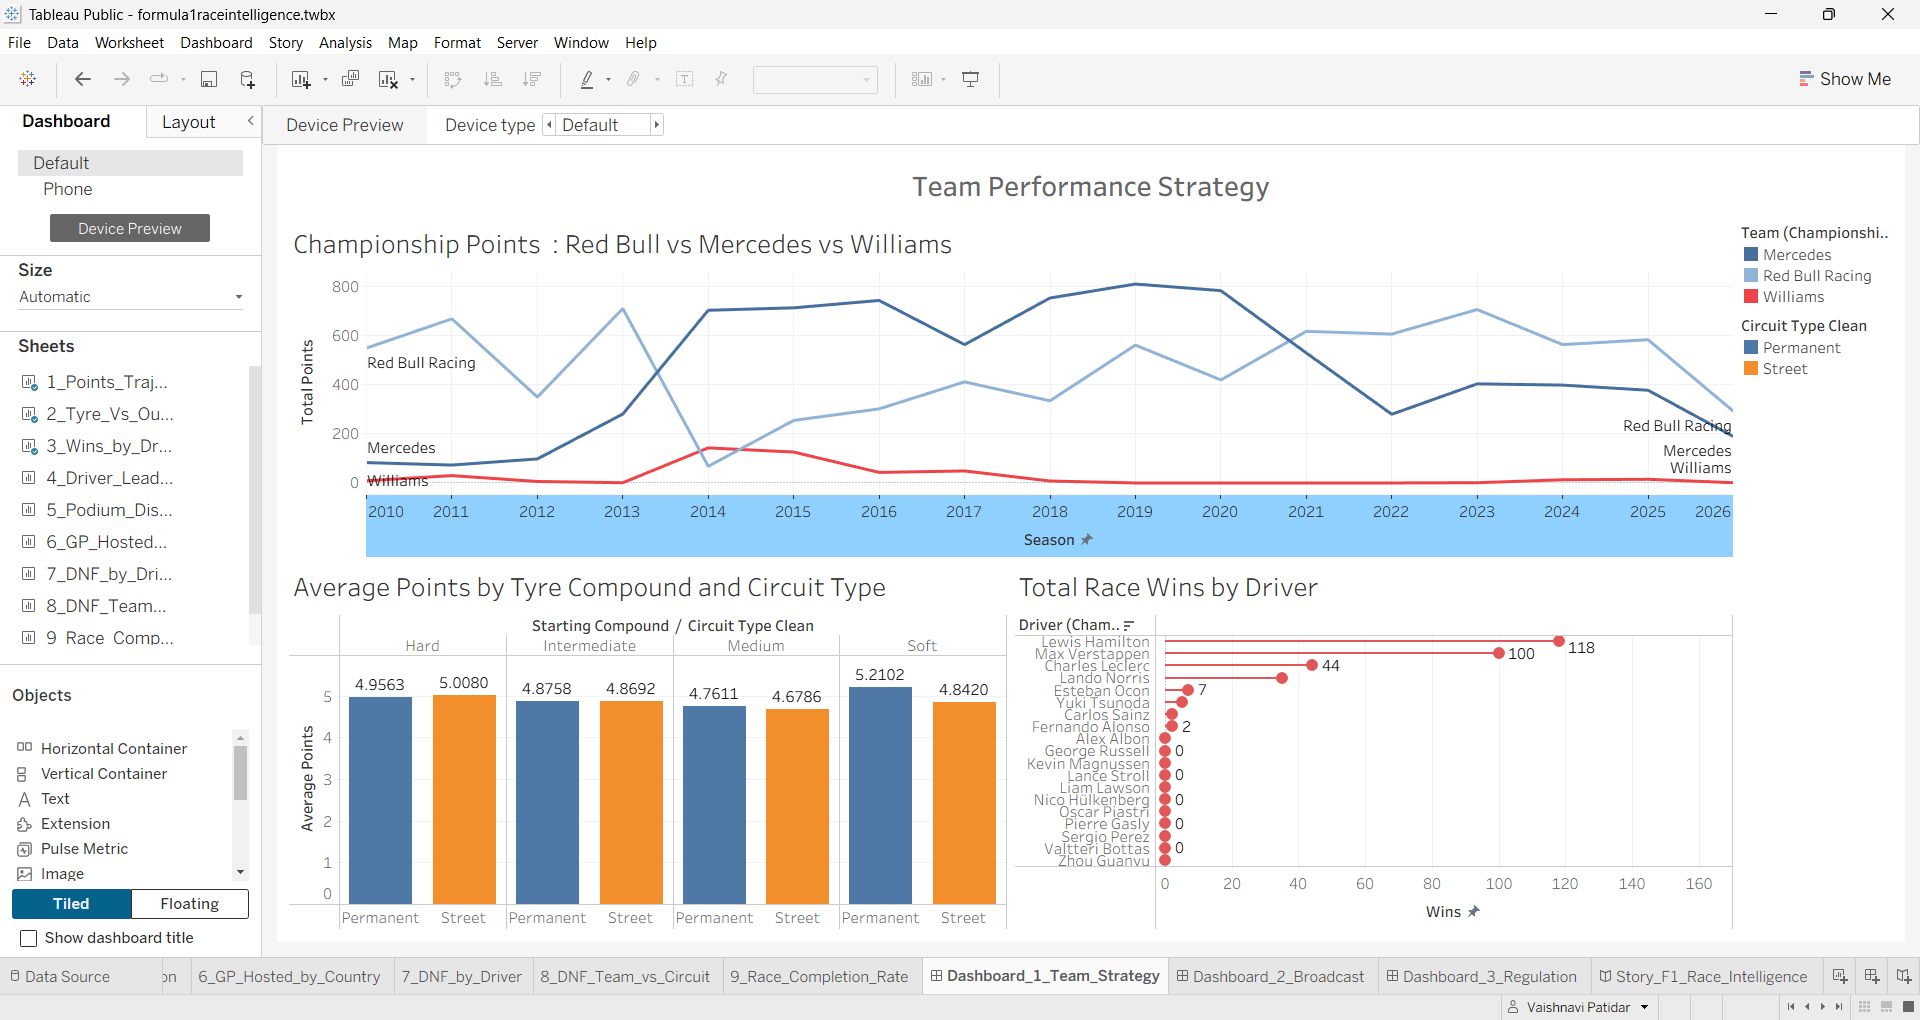

This screenshot's page, from the dashboard's own definition file:
{"tool":"tableau","page":{"name":"Dashboard_1_Team_Strategy","canvas":[1000,1000],"units":"permille","ordinal":0},"visuals":[{"type":"text","box":[4.9,10,990.2,82.2]},{"type":"worksheet","title":"1_Points_Trajectory","mark":"Automatic","rows":["points (championship!standings)"],"cols":["season (championship!standings)"],"box":[4.9,92.2,891.9,430]},{"type":"legend","title":"1_Points_Trajectory","param":"[federated.16xycoi09t615k0zn9l631br8ulf].[none:team (championship!standings):nk]","box":[896.8,92.2,98.3,116.7]},{"type":"legend","title":"2_Tyre_Vs_Outcome","param":"[federated.16xycoi09t615k0zn9l631br8ulf].[none:Calculation_1331020857790468:nk]","box":[896.8,208.9,98.3,90.3]},{"type":"worksheet","title":"2_Tyre_Vs_Outcome","mark":"Bar","rows":["points"],"cols":["starting_compound","Calculation_1331020857790468"],"box":[4.9,522.2,445.9,467.7]},{"type":"worksheet","title":"3_Wins_by_Driver","mark":"Circle","rows":["driver (championship!standings)"],"cols":["wins","wins"],"box":[450.9,522.2,445.9,467.7]}]}

Visuals, with their boxes on the dashboard's canvas, which has no fixed pixel size, in thousandths of its width and height (x1, y1, x2, y2). These are canvas units, not pixel positions in the 1920x1020 screenshot, which may show the page scaled, cropped or inside an application window:
text: [5, 10, 995, 92]
"1_Points_Trajectory" worksheet: [5, 92, 897, 522]
"1_Points_Trajectory" legend: [897, 92, 995, 209]
"2_Tyre_Vs_Outcome" legend: [897, 209, 995, 299]
"2_Tyre_Vs_Outcome" worksheet (Bar marks): [5, 522, 451, 990]
"3_Wins_by_Driver" worksheet (Circle marks): [451, 522, 897, 990]
